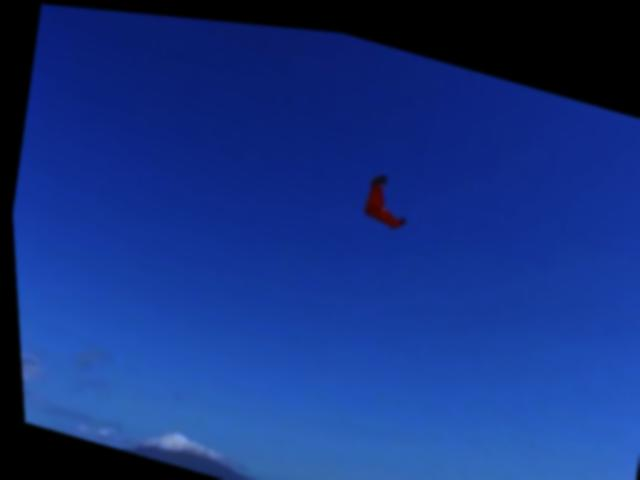flying wing: (354, 161, 414, 228)
